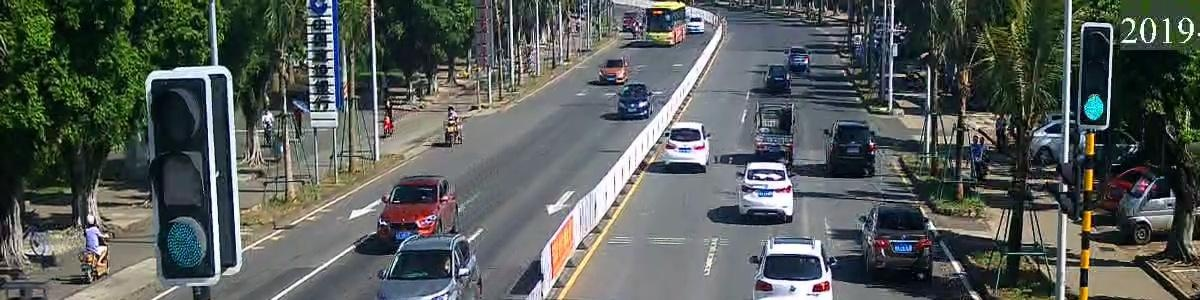green: (152, 214, 221, 276), (1074, 89, 1115, 141)
